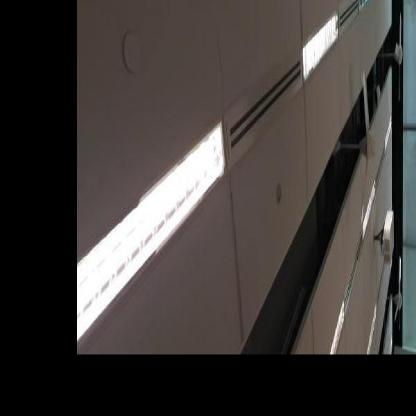light_on: (78, 113, 228, 354), (294, 0, 349, 86), (357, 178, 380, 241), (324, 300, 350, 354), (364, 301, 384, 354), (381, 110, 398, 154)
